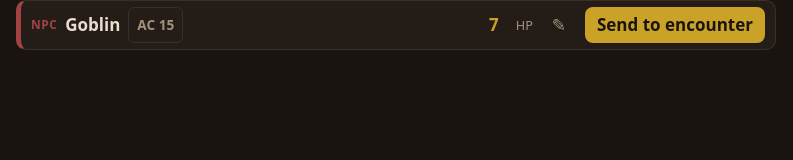
it: CatalogRow armor class › reveals an input seeded with the current AC when clicked
Click the button "AC 15" at [156, 25], box [128, 7, 183, 43]
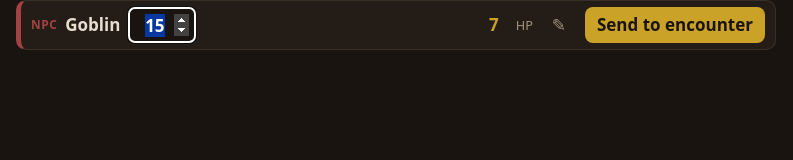
Result: the number field named "AC" holds "15" at [128, 7, 196, 43]
